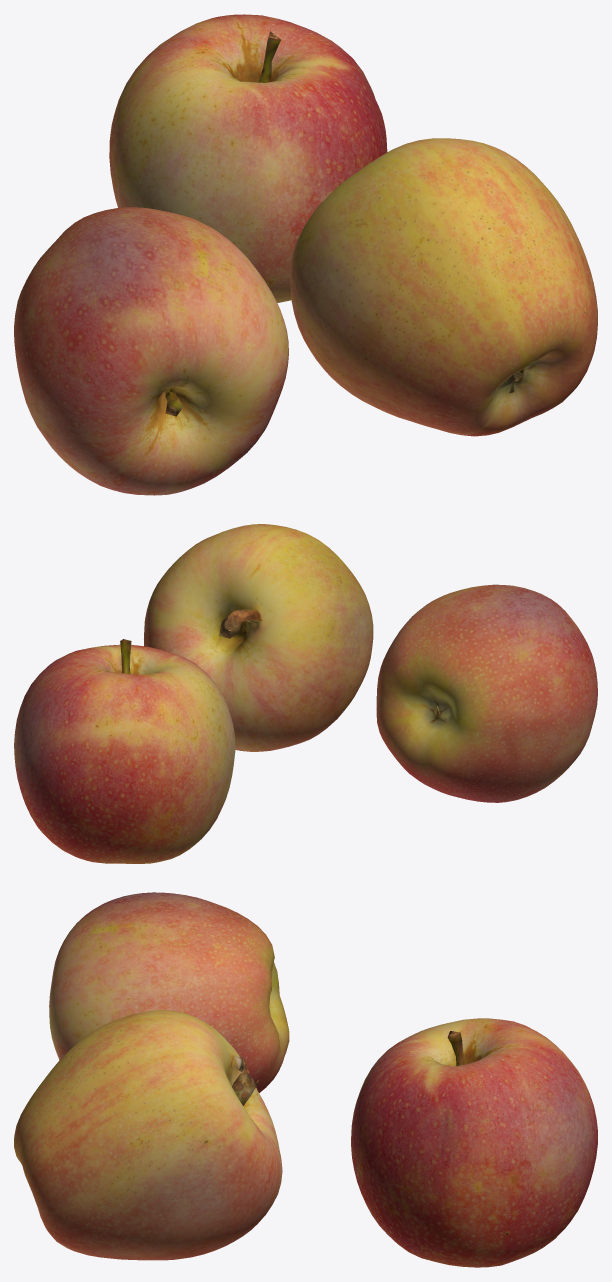
Rendered from royal_gala_apples.glb.
3 views of the same model, one above another, from view 1: azimuth 30°, elevation 25°; view 2: azimuth 150°, elevation 25°; view 3: azimuth 270°, elevation 25° (orthographic). The views are drawn at different scales.
Visible parts, largest first — view 1: Object_4, Object_3, Object_2; view 2: Object_2, Object_3, Object_4; view 3: Object_4, Object_2, Object_3.
Part boxes in pixels (x1,y1,x2,y2): Object_4: (290,138,597,436); Object_3: (14,207,288,495); Object_2: (109,14,387,302); Object_2: (14,639,235,863); Object_3: (376,584,597,802); Object_4: (144,524,373,751); Object_4: (14,1010,282,1260); Object_2: (351,1018,597,1267); Object_3: (49,892,289,1092).
Bounding box in the file's own units: 2.71 × 1.28 × 2.97.
Materials: 3 (3 with a texture image).
